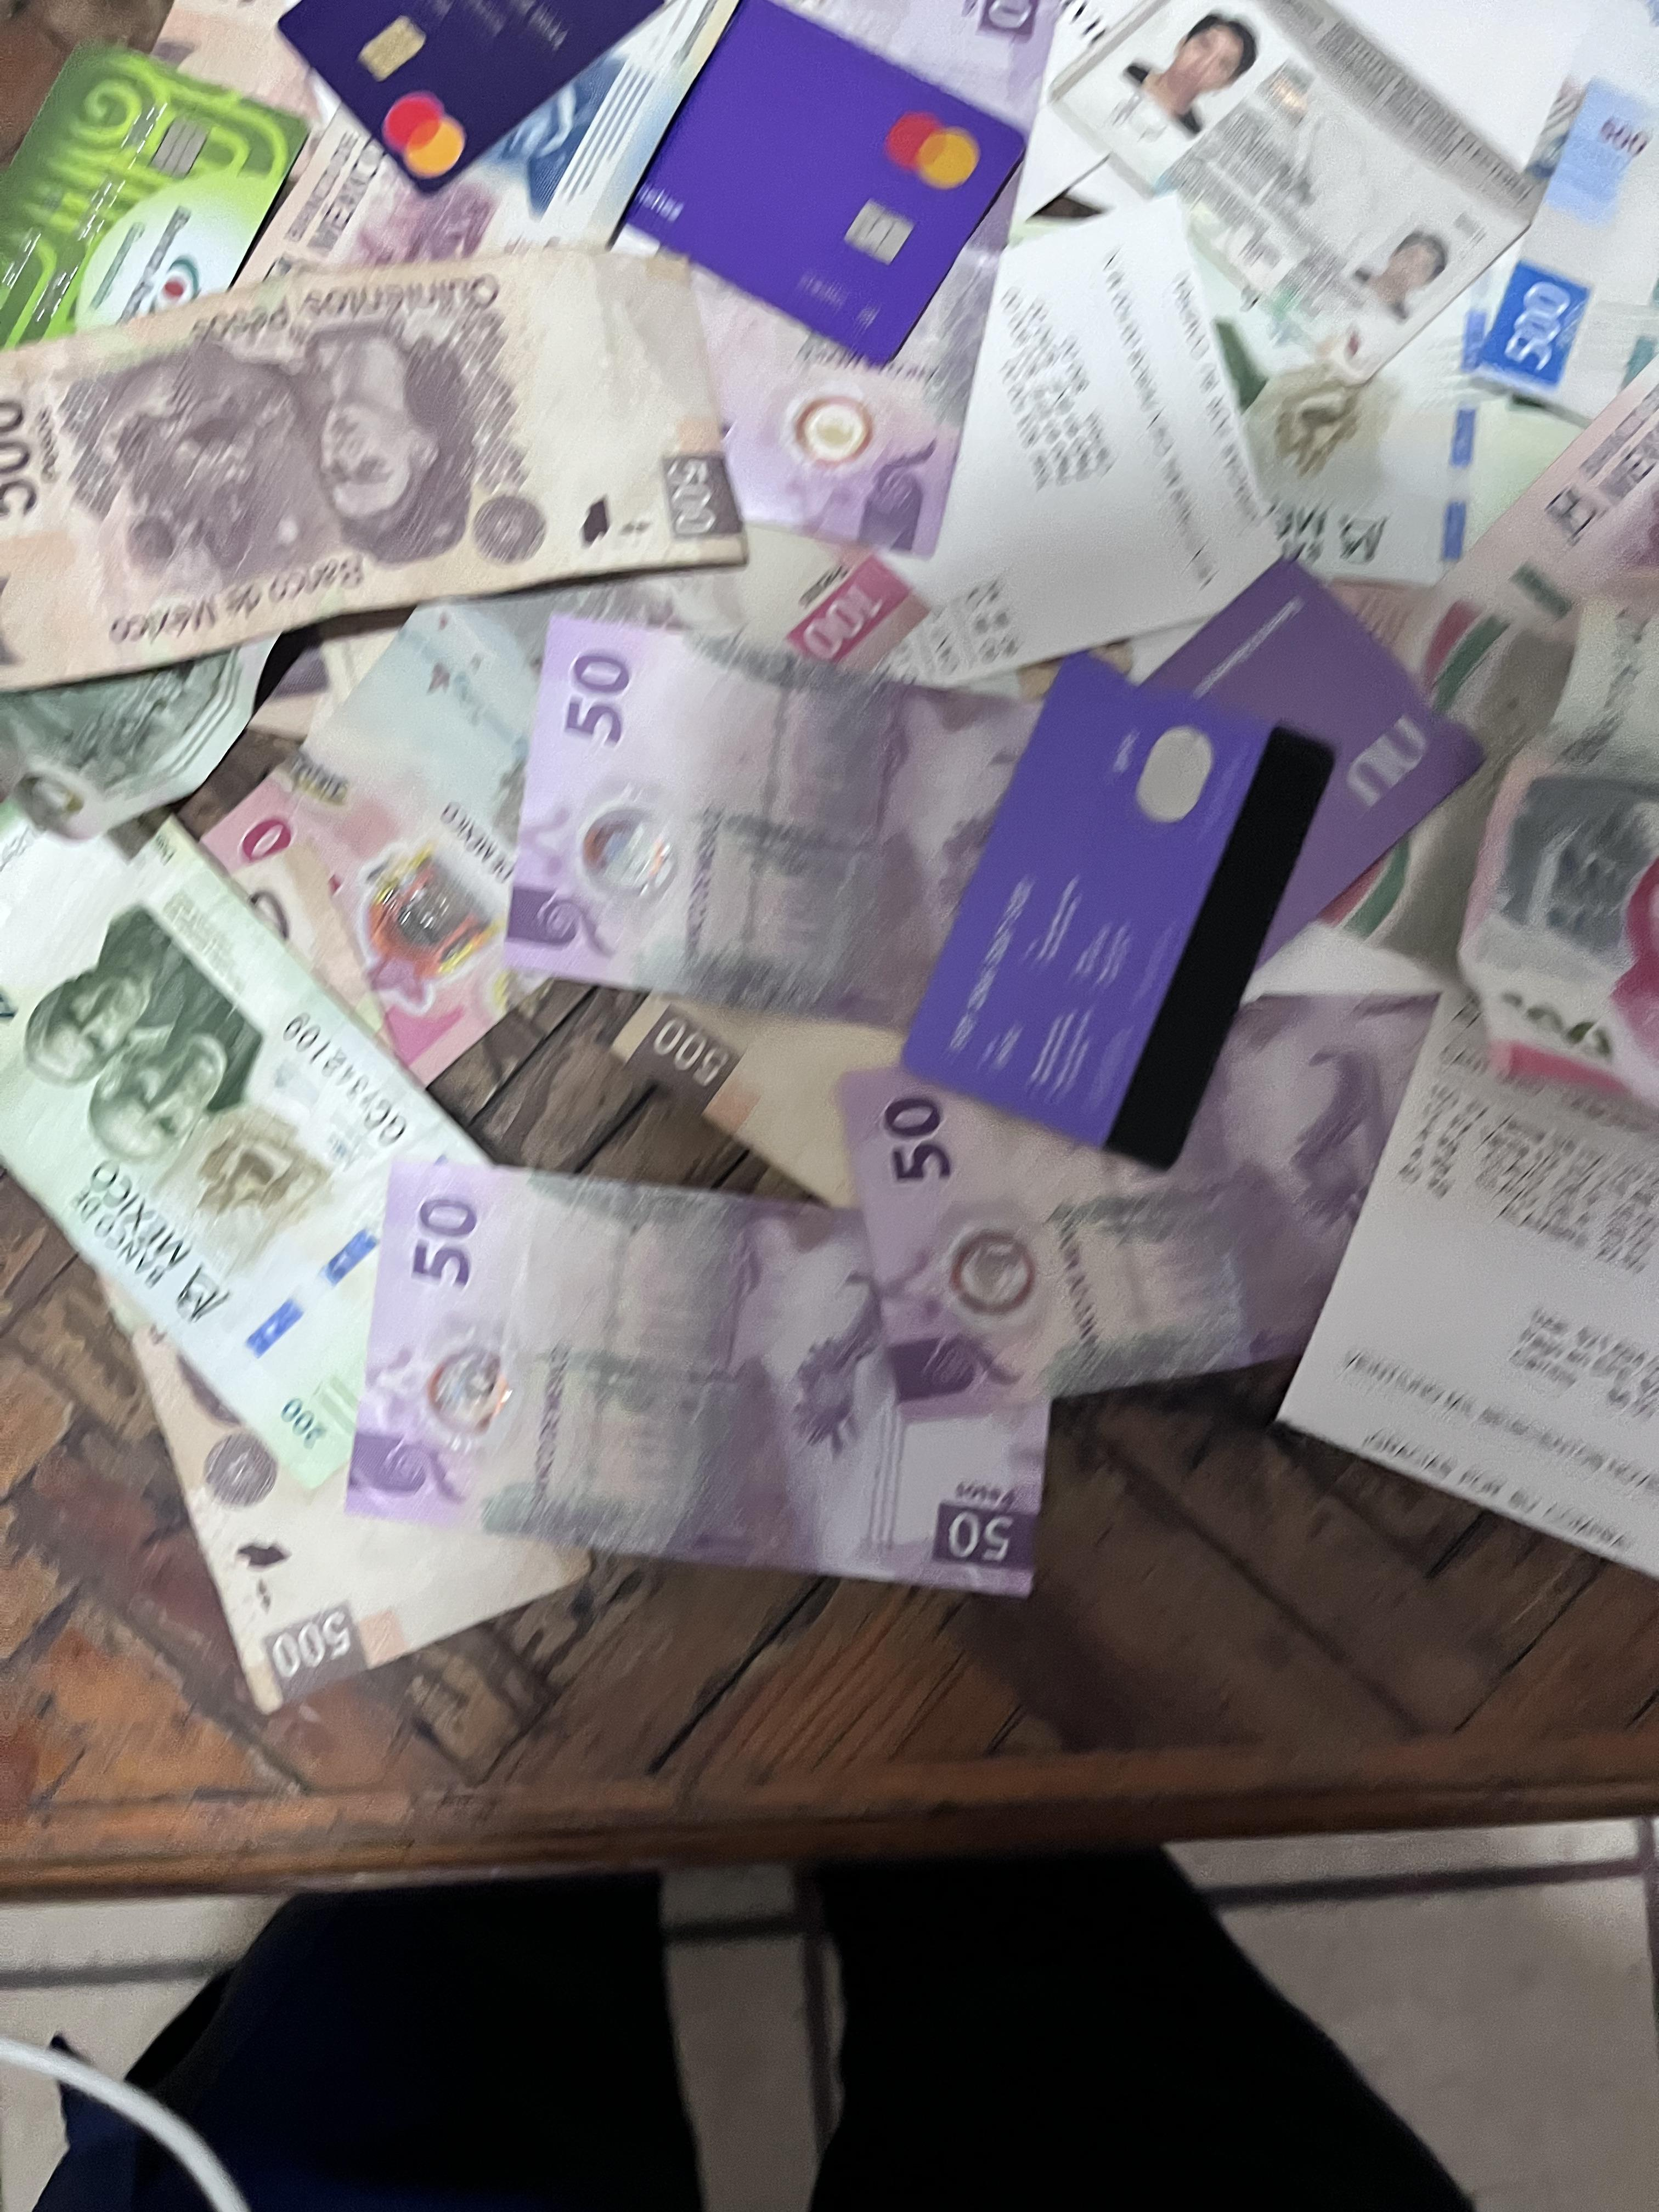100: (178, 610, 627, 1064), (1459, 557, 1659, 1146)
200: (0, 834, 477, 1456), (1119, 239, 1614, 538)
50: (296, 1144, 1075, 1609), (828, 941, 1530, 1420), (486, 603, 1051, 1010), (629, 0, 1012, 552)
500: (0, 857, 631, 1709), (0, 240, 774, 611), (647, 930, 971, 1198)
500 nuevo: (1486, 75, 1659, 451)
